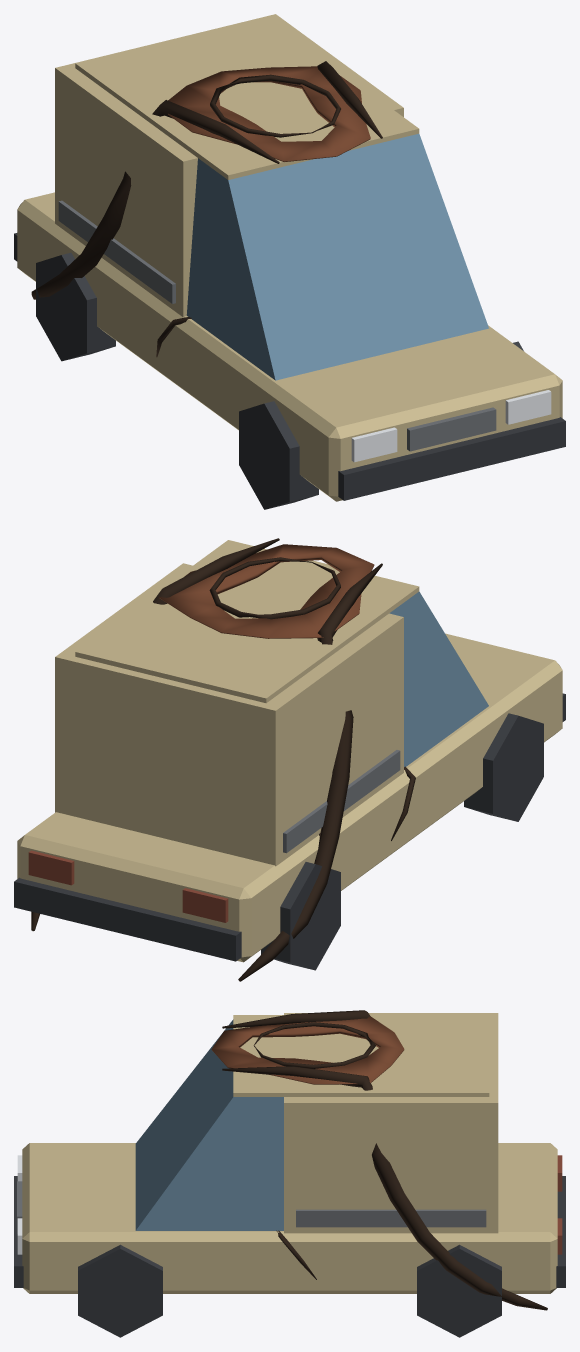
File: prop-car-utility-infested-2.glb
The picture shows the model from 3 angles, top to bottom: view 1: azimuth 30°, elevation 25°; view 2: azimuth 150°, elevation 25°; view 3: azimuth 270°, elevation 25°; orthographic projection. The views are drawn at different scales.
Visible parts, largest first — view 1: greenhouse, painted-body, solid-cargo-body, painted-roof, host_growth, bumper-1, tyre-0.57--1, tyre--0.57--1, cargo-trim--1, grille, light-1--1, light-1-1; view 2: solid-cargo-body, painted-body, painted-roof, host_growth, greenhouse, bumper--1, tyre-0.57--1, tyre--0.57--1, cargo-trim--1, light--1-1, light--1--1; view 3: painted-body, solid-cargo-body, greenhouse, painted-roof, host_growth, tyre-0.57-1, tyre--0.57-1, cargo-trim-1, bumper--1, bumper-1.
Boxes of the visible parts, x1,y1,x2,y2 form: greenhouse: (186,133,488,380); painted-body: (17,192,562,501); solid-cargo-body: (55,14,403,316); painted-roof: (75,17,419,179); host_growth: (31,61,382,357); bumper-1: (338,417,565,500); tyre-0.57--1: (239,401,318,509); tyre--0.57--1: (36,252,115,361); cargo-trim--1: (58,200,175,303); grille: (407,407,496,451); light-1--1: (351,427,397,462); light-1-1: (505,390,551,424); solid-cargo-body: (55,563,403,866); painted-body: (17,633,562,962); painted-roof: (75,540,419,703); host_growth: (31,538,415,981); greenhouse: (389,591,488,766); bumper--1: (14,877,241,961); tyre-0.57--1: (464,713,543,821); tyre--0.57--1: (261,862,340,970); cargo-trim--1: (283,750,400,853); light--1-1: (28,850,74,885); light--1--1: (182,888,228,922); painted-body: (22,1143,557,1293); solid-cargo-body: (284,1013,498,1233); greenhouse: (135,1019,283,1230); painted-roof: (233,1015,489,1096); host_growth: (211,1010,547,1310); tyre-0.57-1: (78,1244,162,1337); tyre--0.57-1: (417,1244,501,1337); cargo-trim-1: (296,1209,486,1227); bumper--1: (556,1176,565,1287); bumper-1: (14,1176,23,1287).
Size of the model in its own units: 0.8638 by 0.9113 by 1.85.
